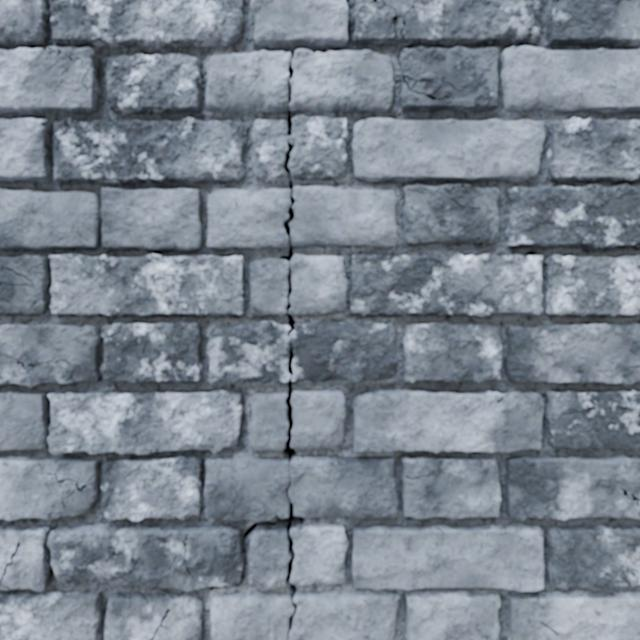broken_brick: (204, 455, 397, 521), (207, 320, 398, 383), (211, 590, 398, 639), (289, 49, 395, 113), (290, 186, 397, 248), (251, 115, 348, 182), (206, 50, 290, 113), (207, 188, 290, 248), (290, 522, 347, 585), (289, 254, 346, 315), (291, 389, 346, 448), (250, 525, 289, 589), (249, 258, 288, 315), (251, 391, 287, 450)
crack: (0, 490, 305, 636), (352, 523, 639, 639), (352, 0, 639, 113), (0, 0, 244, 115), (0, 390, 243, 454), (0, 253, 244, 316), (0, 454, 204, 521), (0, 322, 201, 387), (53, 117, 246, 184), (0, 188, 203, 251), (352, 118, 544, 182), (350, 253, 543, 316), (352, 390, 543, 452), (505, 455, 639, 521), (504, 184, 639, 248), (504, 323, 639, 384), (400, 454, 501, 519), (403, 322, 502, 383), (403, 184, 499, 246), (547, 117, 639, 181), (545, 389, 639, 451), (105, 54, 201, 114), (545, 255, 639, 316), (251, 0, 349, 51), (0, 591, 103, 639), (105, 591, 203, 639), (406, 589, 500, 639), (546, 0, 639, 47), (0, 118, 51, 182), (279, 141, 295, 337), (283, 379, 296, 464), (284, 53, 294, 137), (286, 341, 294, 376), (252, 561, 253, 578)
